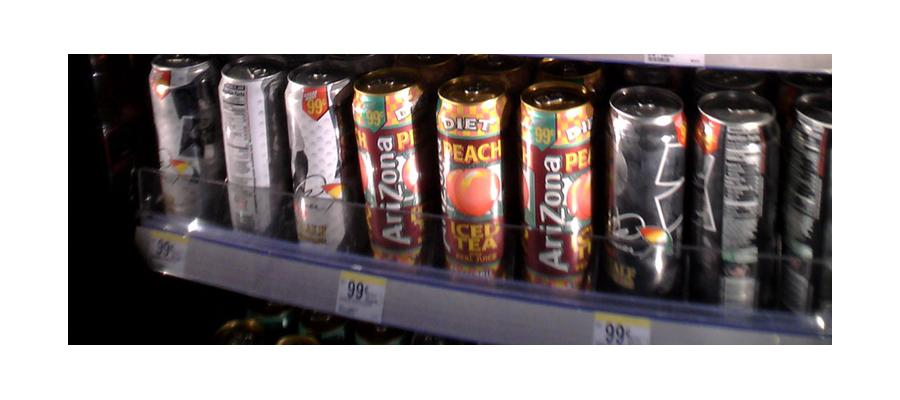bottle: (602, 90, 687, 304), (695, 90, 776, 310), (518, 84, 592, 290), (437, 72, 508, 280), (353, 73, 427, 266), (285, 67, 351, 254), (149, 54, 216, 224), (218, 61, 282, 235), (788, 89, 828, 325)
